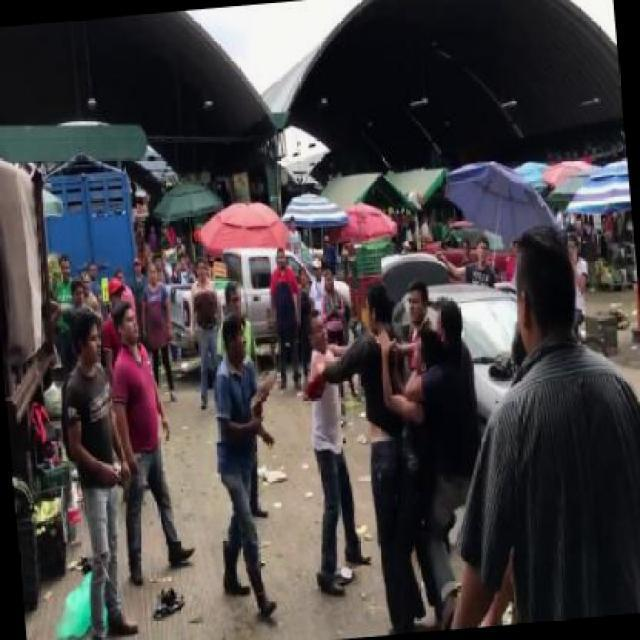fight: (303, 280, 422, 622)
